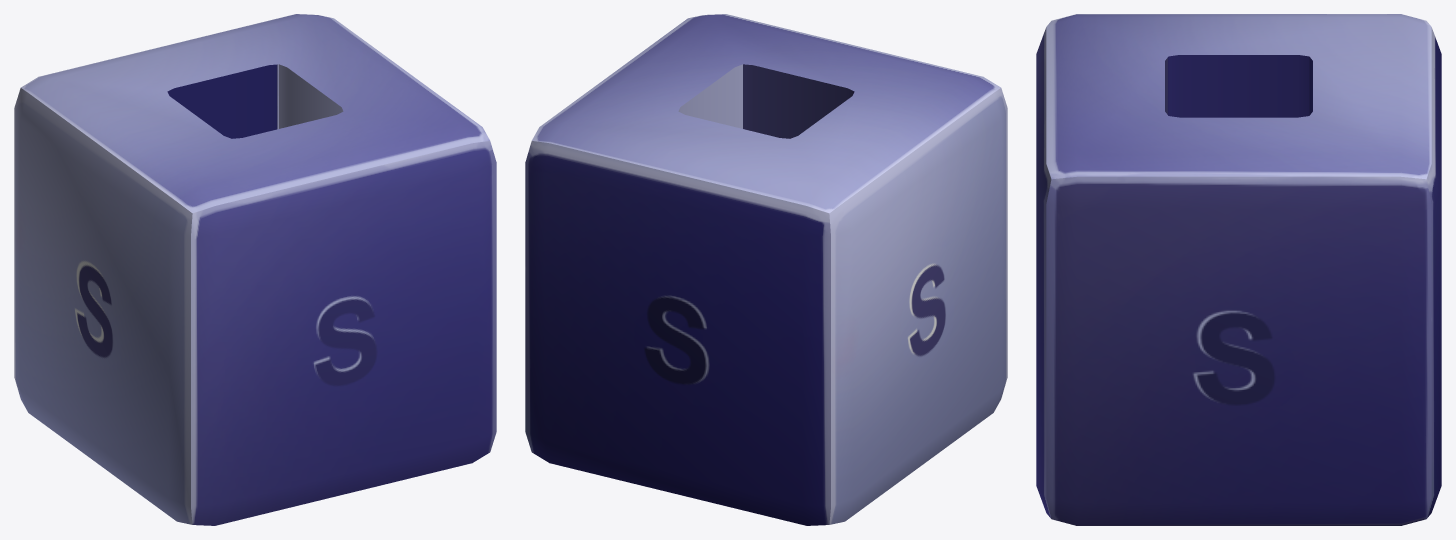
File: Magnetic_B.FBX
3 views of the same model, side by side, from view 1: azimuth 30°, elevation 25°; view 2: azimuth 150°, elevation 25°; view 3: azimuth 270°, elevation 25° (orthographic). The views are drawn at different scales.
Visible parts, largest first — view 1: Magnetic_B; view 2: Magnetic_B; view 3: Magnetic_B.
Boxes of the visible parts, bbox=[...] form: Magnetic_B: bbox=[14, 14, 496, 525]; Magnetic_B: bbox=[525, 14, 1007, 525]; Magnetic_B: bbox=[1036, 14, 1441, 525].
Size of the model in its own units: 10 by 10 by 10.
